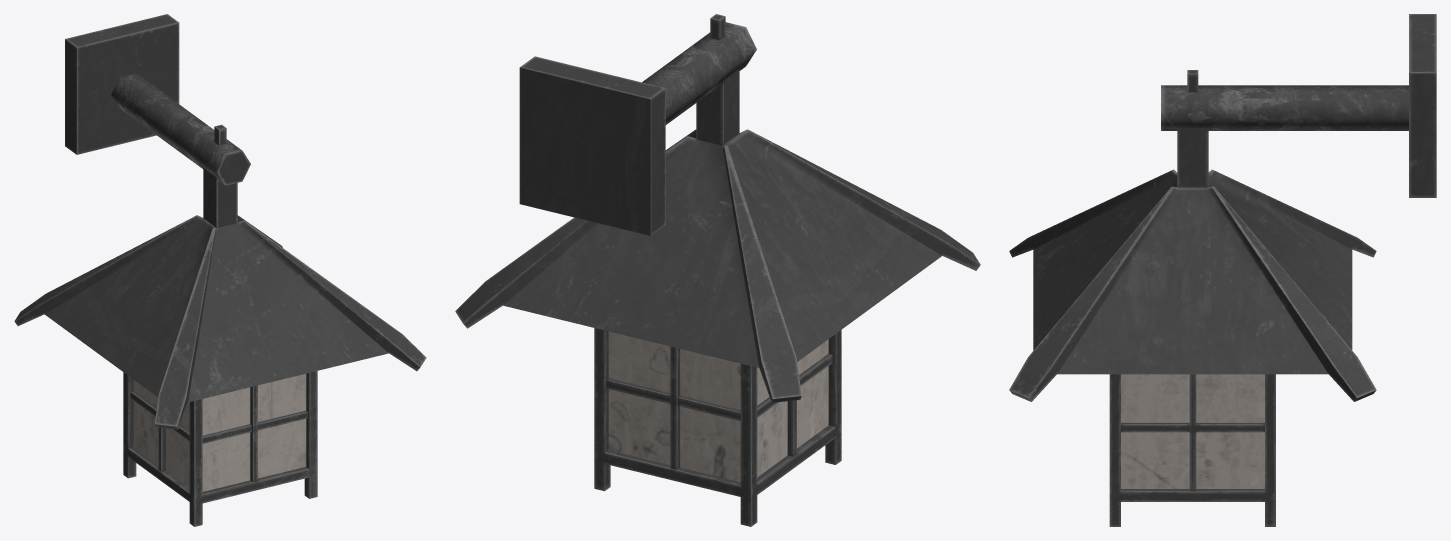
File: wallLightB.fbx
The picture shows the model from 3 angles, left to right: view 1: azimuth 30°, elevation 25°; view 2: azimuth 150°, elevation 25°; view 3: azimuth 270°, elevation 25°; orthographic projection. The views are drawn at different scales.
Parts seen in each view (by area): view 1: wallLightB; view 2: wallLightB; view 3: wallLightB.
Part boxes in pixels (x1=…): wallLightB: x1=14, y1=14, x2=426, y2=526; wallLightB: x1=455, y1=14, x2=980, y2=526; wallLightB: x1=1009, y1=14, x2=1436, y2=526.
Size of the model in its own units: 26.52 by 35.72 by 30.86.
1 material, 1 textured.
